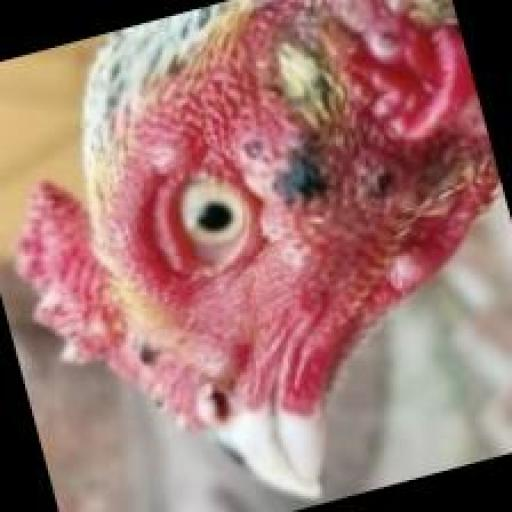disease: (321, 2, 505, 195), (10, 174, 124, 391), (230, 110, 344, 316), (114, 300, 242, 442), (352, 225, 448, 305)
